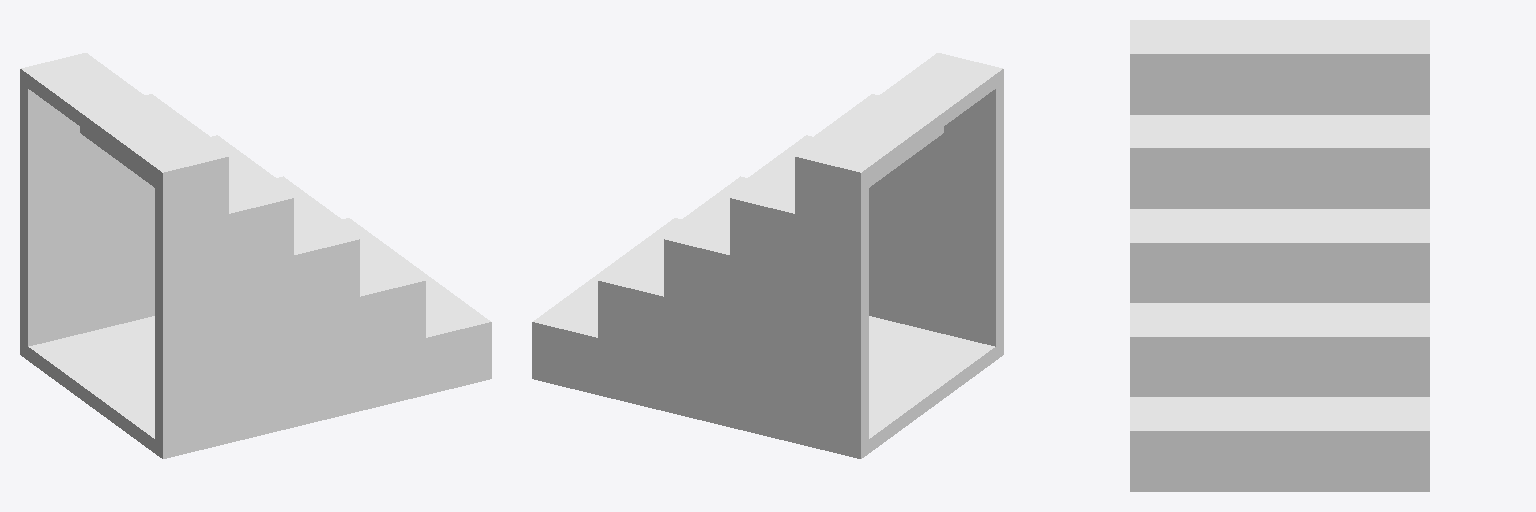
The robot description file, URDF, robot "terrain-stairs":
<?xml version="1.0" encoding="utf-8"?>
<!-- This URDF was automatically created by SolidWorks to URDF Exporter! Originally created by [author] ([email redacted]) 
     Commit Version: 1.6.0-4-g7f85cfe  Build Version: 1.6.7995.38578
     For more information, please see http://wiki.ros.org/sw_urdf_exporter -->
<robot
  name="terrain-stairs">
  <link
    name="base_link">
    <inertial>
      <origin
        xyz="0.550882352941177 0.468 0.358823529411765"
        rpy="0 0 0" />
      <mass
        value="95.88" />
      <inertia
        ixx="18.5105352941176"
        ixy="6.5396548277259E-15"
        ixz="4.72565647058824"
        iyy="20.0436006470588"
        iyz="-7.38527864885824E-15"
        izz="20.3894653529411" />
    </inertial>
    <visual>
      <origin
        xyz="0 0 0"
        rpy="0 0 0" />
      <geometry>
        <mesh
          filename="package://terrain-stairs/meshes/base_link.STL" />
      </geometry>
      <material
        name="">
        <color
          rgba="1 1 1 1" />
      </material>
    </visual>
    <collision>
      <origin
        xyz="0 0 0"
        rpy="0 0 0" />
      <geometry>
        <mesh
          filename="package://terrain-stairs/meshes/base_link.STL" />
      </geometry>
    </collision>
  </link>
  <gazebo reference="base_link">
    <selfCollide>false</selfCollide>
    <mu1>10</mu1>
    <mu2>2</mu2>
    <kp value="10000000.0" />
    <kd value="1.0" />
    <!-- <fdir1 value="0 1 0" /> -->
    <gravity>1</gravity>
    <maxContacts>10</maxContacts>
  </gazebo>
</robot>

--- What the picture shows (computed from the rendered views, not written in the file) ---
Views: 3 orthographic renders of the robot side by side, from view 1: azimuth 30°, elevation 25°; view 2: azimuth 150°, elevation 25°; view 3: azimuth 270°, elevation 25°.
Model terrain-stairs with 1 links and 0 joints (none), rooted at base_link, posed every joint at zero.
Links seen in each view (by area): view 1: base_link; view 2: base_link; view 3: base_link.
Boxes of the visible links, <box> form: base_link: <box>20,53,491,458</box>; base_link: <box>532,53,1003,458</box>; base_link: <box>1130,20,1429,491</box>.
Size in the robot's own frame: 1.2 by 0.9 by 1 metres.
1 mesh visuals loaded from 1 distinct referenced files (1 binary STL).
